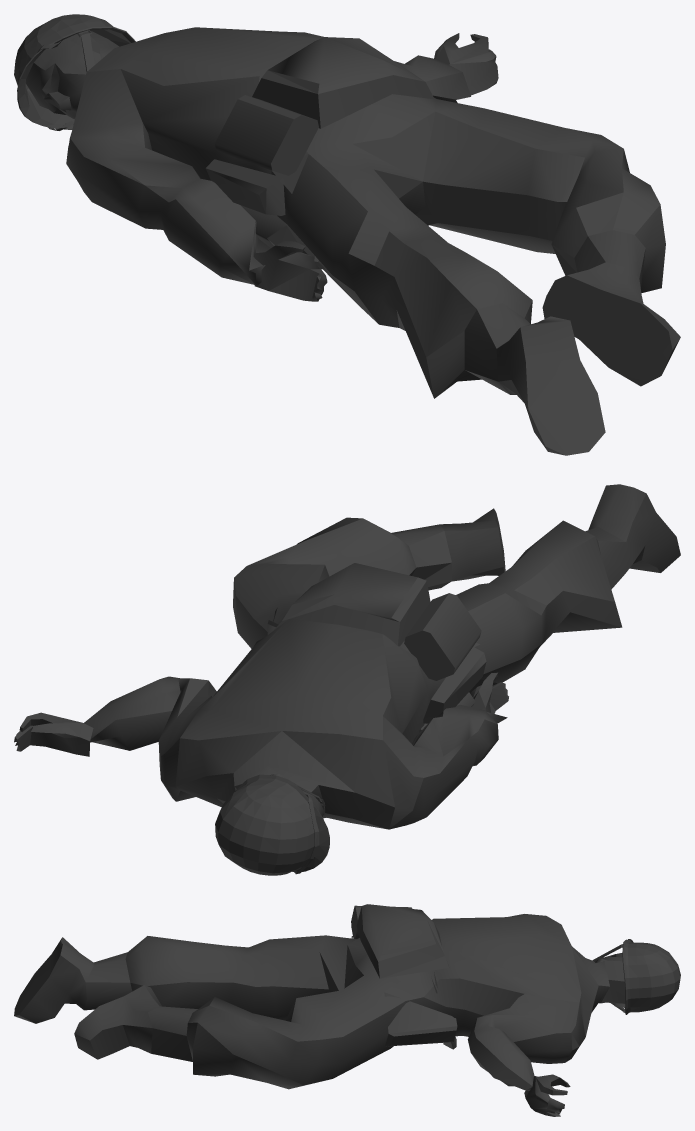
The model's file is us_morto.glb.
3 views of the same model, one above another, from view 1: azimuth 30°, elevation 25°; view 2: azimuth 150°, elevation 25°; view 3: azimuth 270°, elevation 25° (orthographic). The views are drawn at different scales.
Parts seen in each view (by area): view 1: Object.004_Object.017_1; view 2: Object.004_Object.017_1; view 3: Object.004_Object.017_1.
Boxes of the visible parts, x1,y1,x2,y2 form: Object.004_Object.017_1: (14,14,680,455); Object.004_Object.017_1: (14,484,680,875); Object.004_Object.017_1: (14,904,680,1116).
Bounding box in the file's own units: 0.273 × 0.111 × 0.5344.
1 material, 1 textured.
